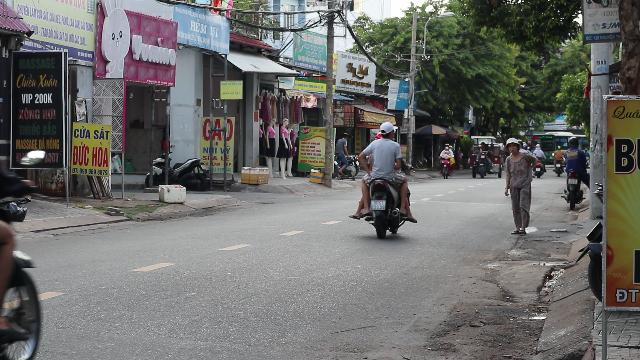licenseplate: (371, 199, 385, 209)
motorcyclist: (352, 119, 416, 237)
nohelmet: (378, 121, 396, 139)
